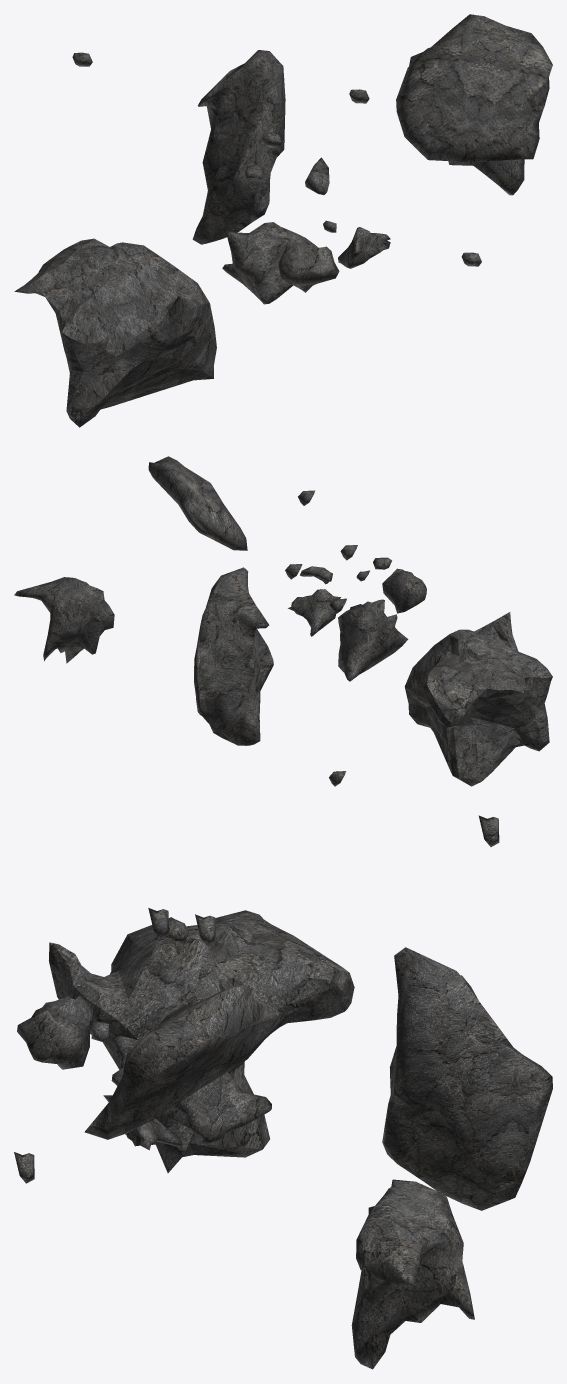
Rendered from asteroids_medium.glb.
3 views of the same model, one above another, from view 1: azimuth 30°, elevation 25°; view 2: azimuth 150°, elevation 25°; view 3: azimuth 270°, elevation 25° (orthographic). The views are drawn at different scales.
Visible parts, largest first — view 1: Cube; view 2: Cube; view 3: Cube.
Part boxes in pixels (left/top/right/bottom): Cube: left=14, top=14, right=552, bottom=427; Cube: left=14, top=456, right=552, bottom=786; Cube: left=14, top=815, right=552, bottom=1369.
Size of the model in its own units: 7.89 by 3.91 by 4.49.
Materials: 1 (1 with a texture image).
